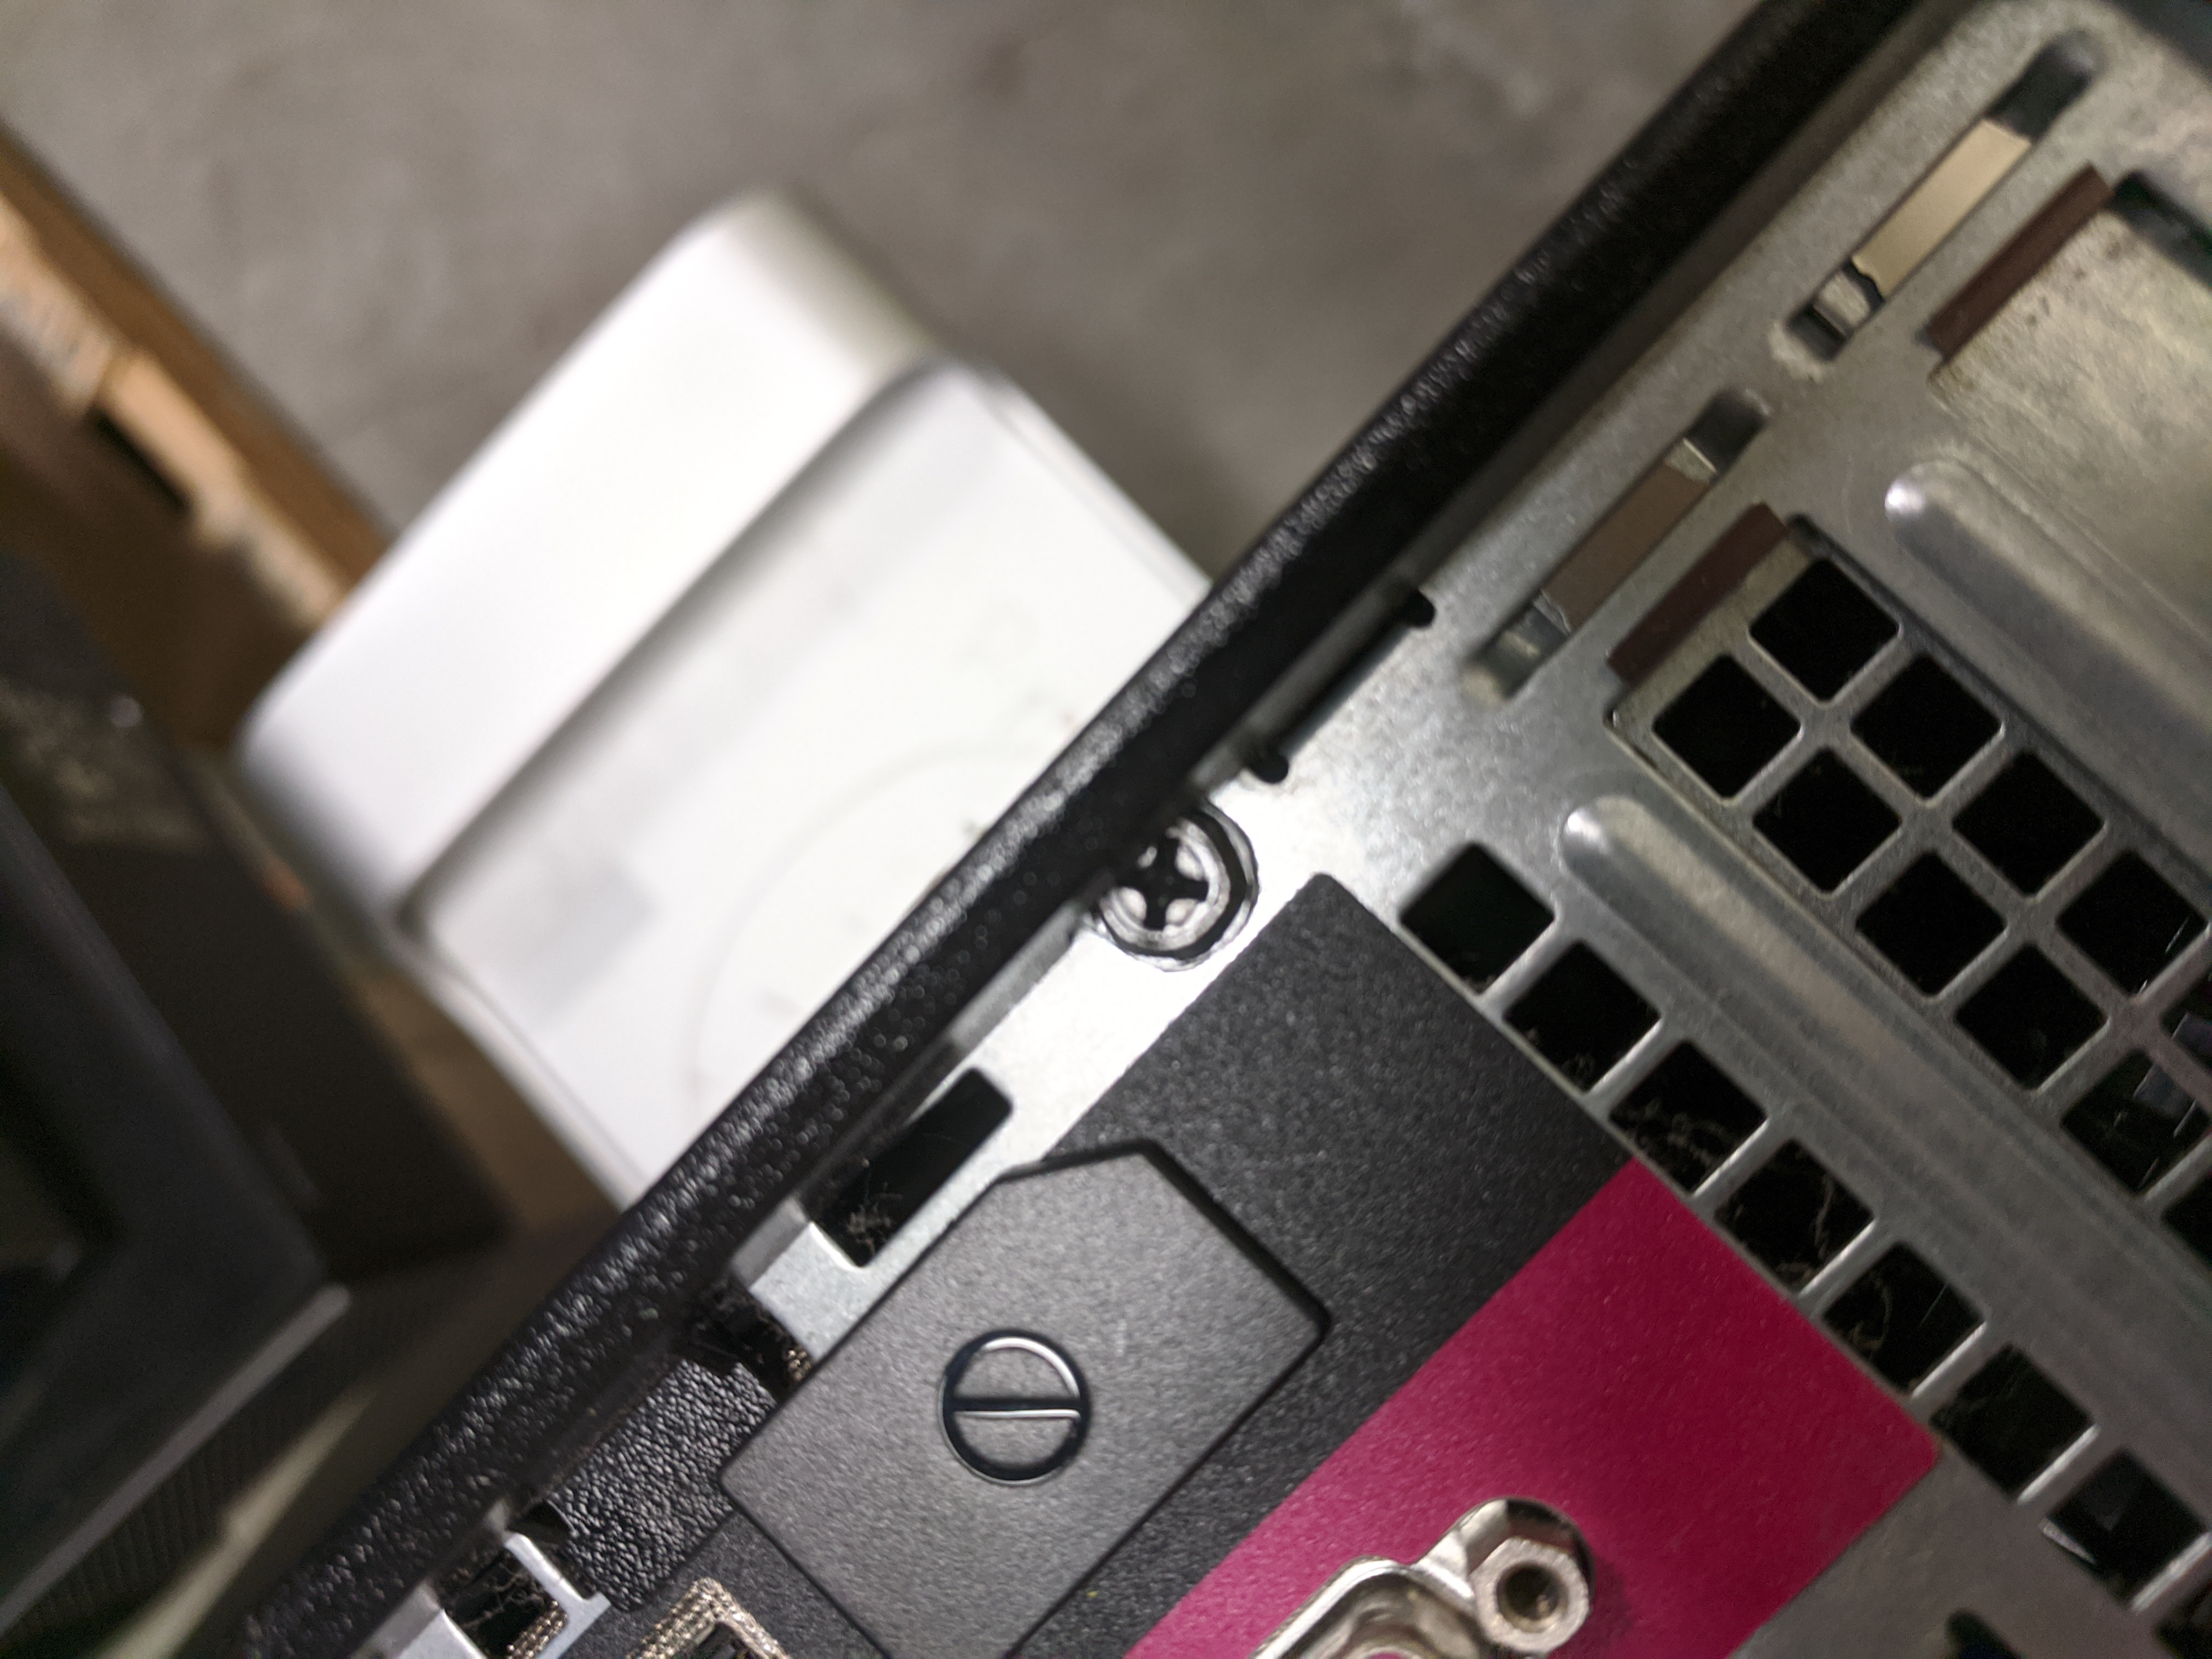cross_recessed_screw: (1090, 802, 1228, 960)
